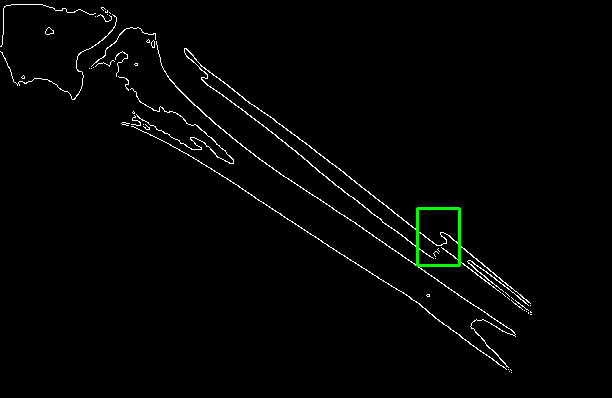fracture: (417, 208, 459, 265)
